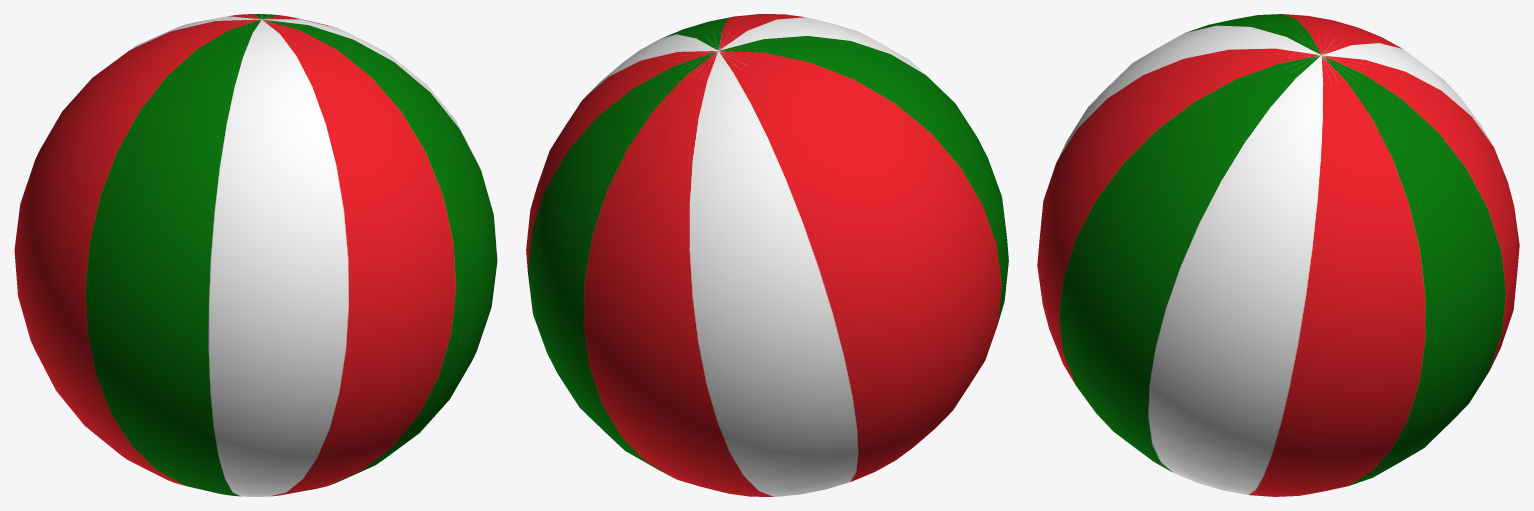
Rendered from ball.FBX.
3 renders of one model, left to right at view 1: azimuth 30°, elevation 25°; view 2: azimuth 150°, elevation 25°; view 3: azimuth 270°, elevation 25°, orthographic.
Visible parts, largest first — view 1: Sphere001; view 2: Sphere001; view 3: Sphere001.
Part boxes in pixels (x1,y1,x2,y2): Sphere001: [14, 14, 497, 496]; Sphere001: [526, 14, 1008, 496]; Sphere001: [1037, 14, 1519, 496].
Bounding box in the file's own units: 38.64 × 38.81 × 38.77.
